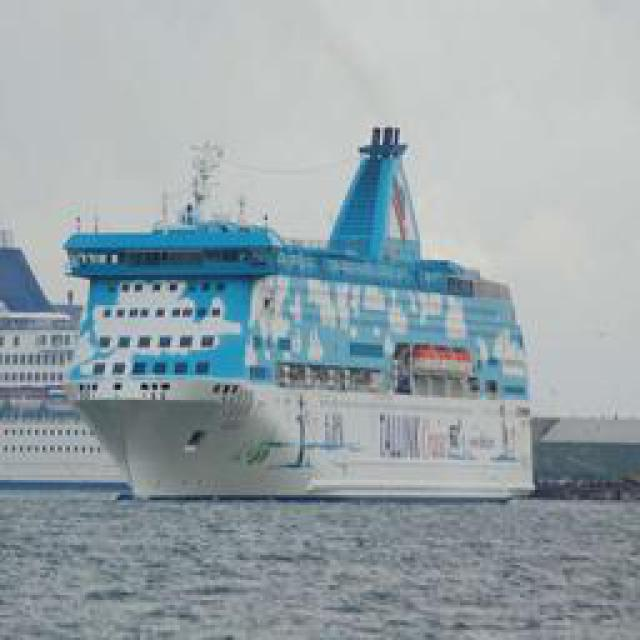Ship: (60, 132, 570, 492)
